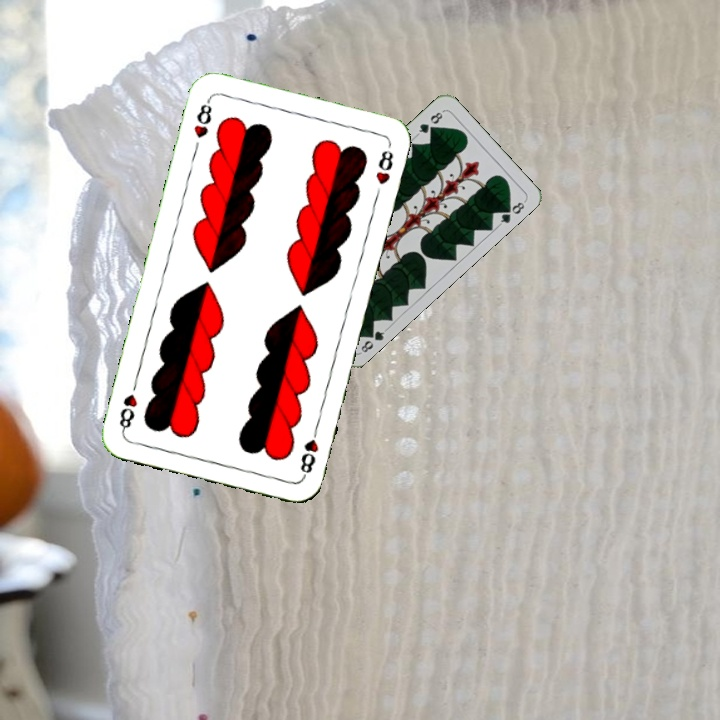G8: (356, 324, 390, 356), (413, 107, 446, 138)
H8: (296, 422, 321, 480), (190, 94, 215, 141)
